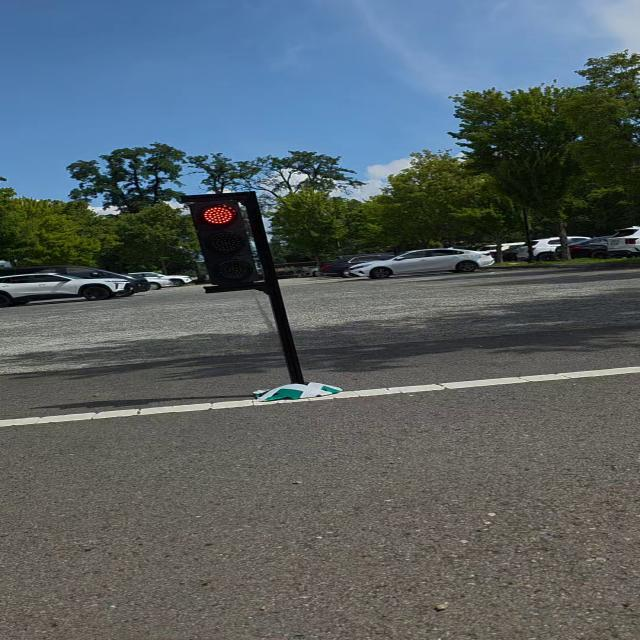red: (187, 193, 276, 290)
